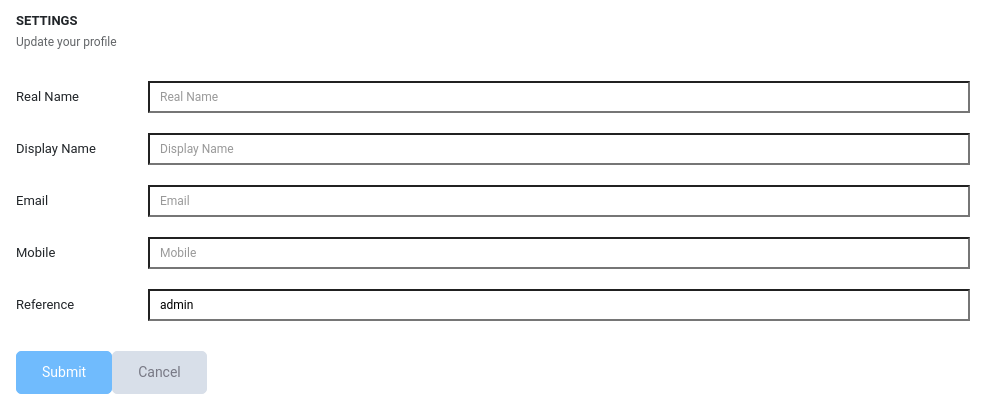
Test: setting › should show an maxLength error when display name is too long
Type "seihuangabcfromchinashanghai" into the field with placeholder "Display Name" at x=559, y=149, box top-left (148, 133), bottom-right (970, 165)
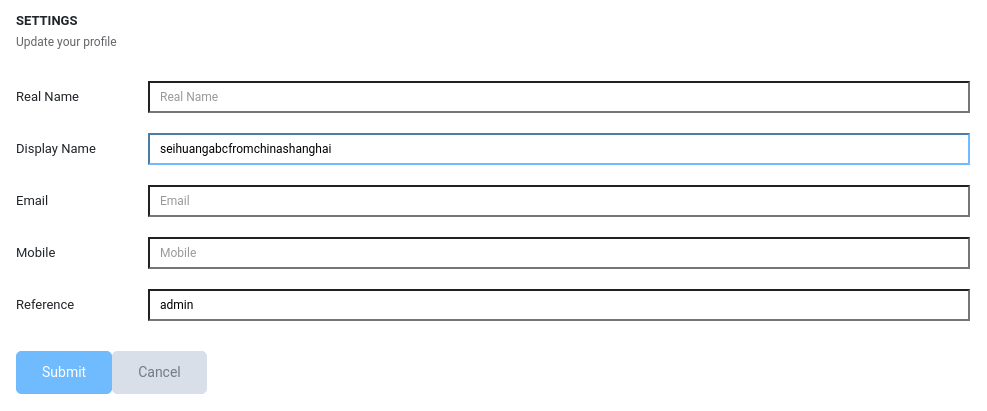
Click the button "Submit" at x=64, y=372, box top-left (16, 351), bottom-right (112, 394)
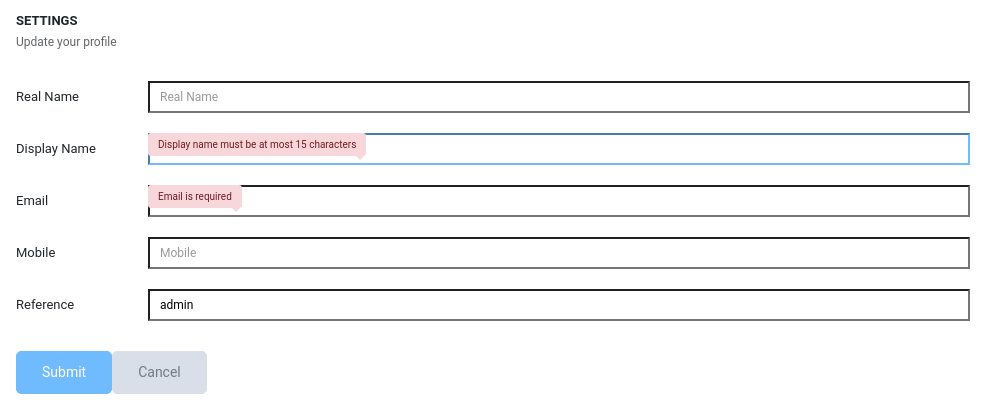
Expected: the text "Display name must be at most 15 characters" is shown, top-left (148, 133), bottom-right (366, 156)
